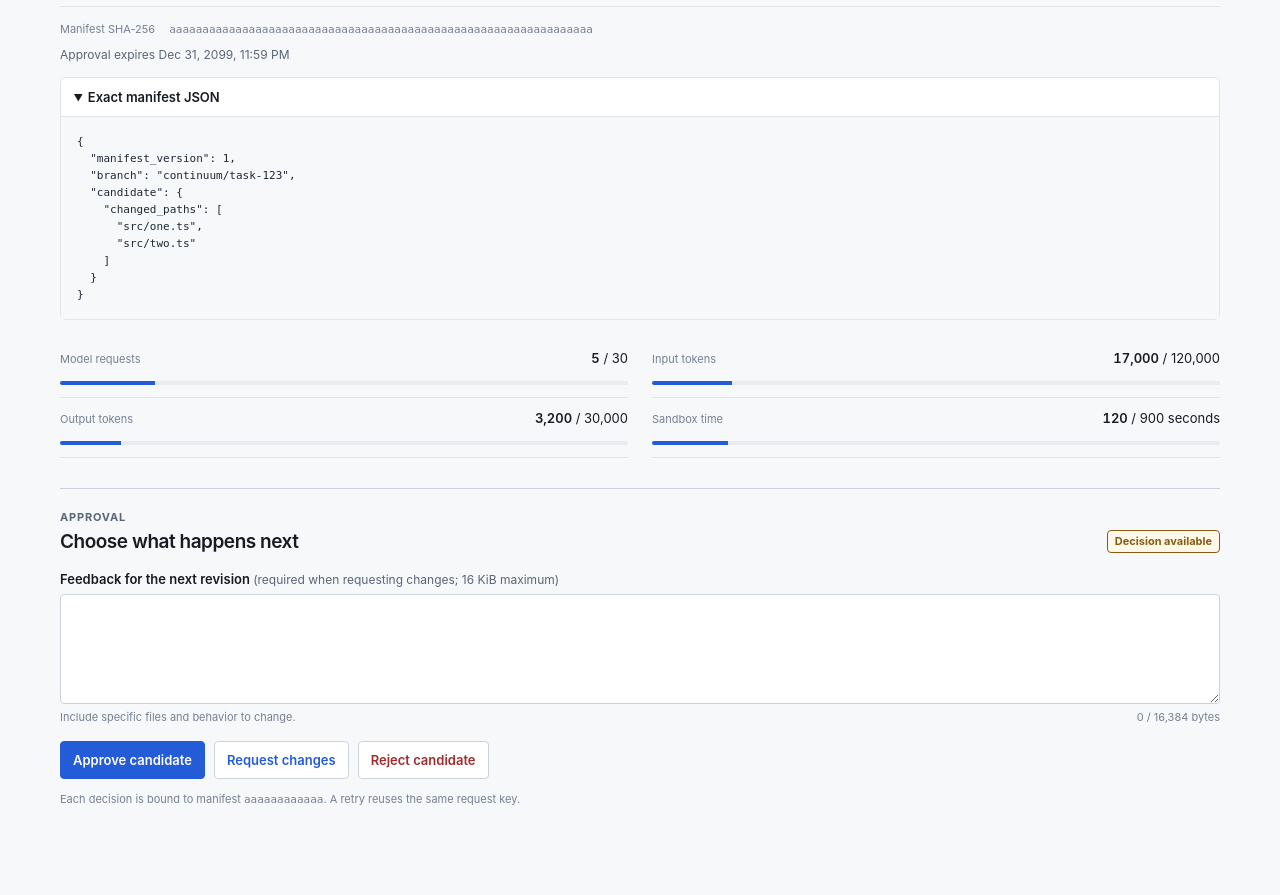
Test: candidate review › reconciles to the latest run after a stale decision conflict and keeps the feedback draft
(page scrolled)
Type "Keep this note while the run refreshes." into the text box labelled "Feedback for the next revision".
click(640, 649); type("Keep this note while the run refreshes.")  # box [60, 594, 1220, 704]
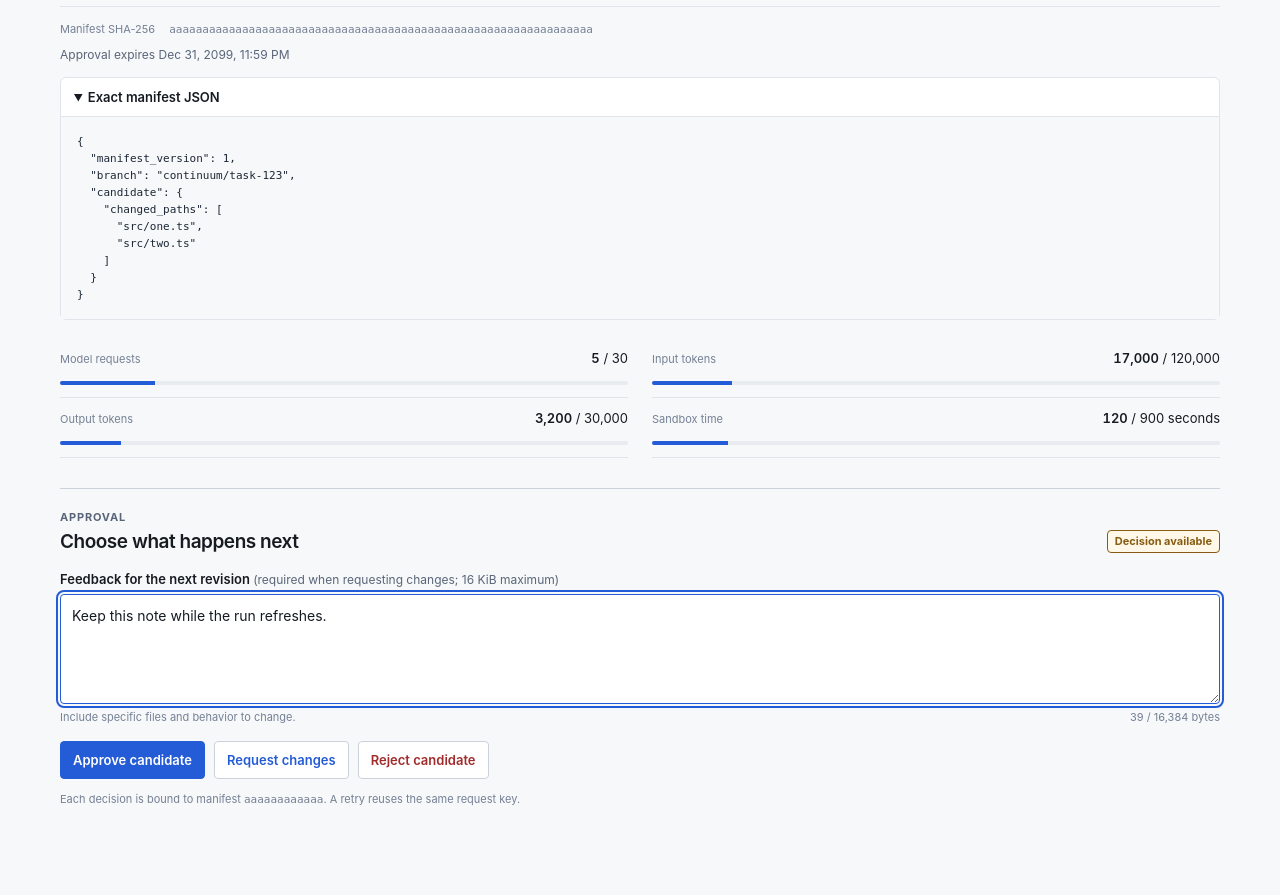
Click the button "Request changes".
click(281, 760)  # box [214, 741, 349, 779]
(page scrolled)
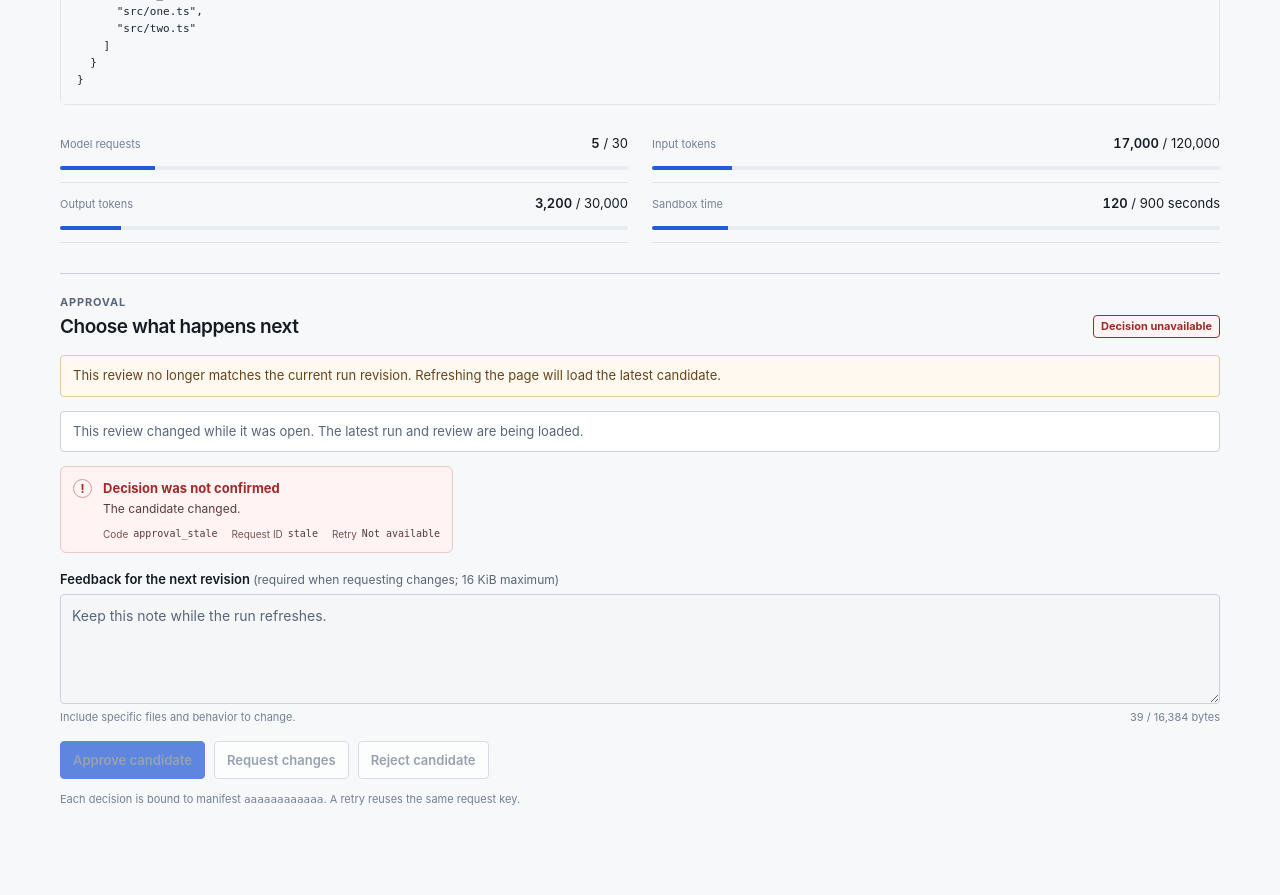
Check: the text "This review changed while it was open" is shown, box [73, 423, 584, 439]
Check: the button "Approve candidate" is disabled, box [60, 741, 205, 779]
